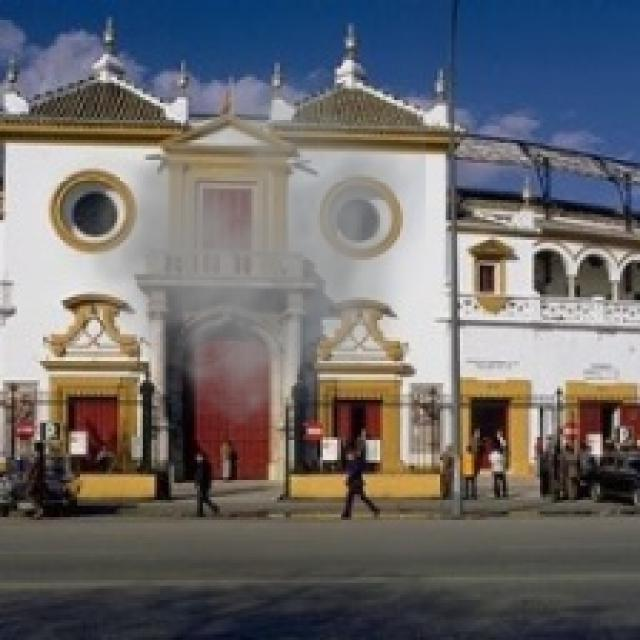smoke: (48, 57, 426, 443)
